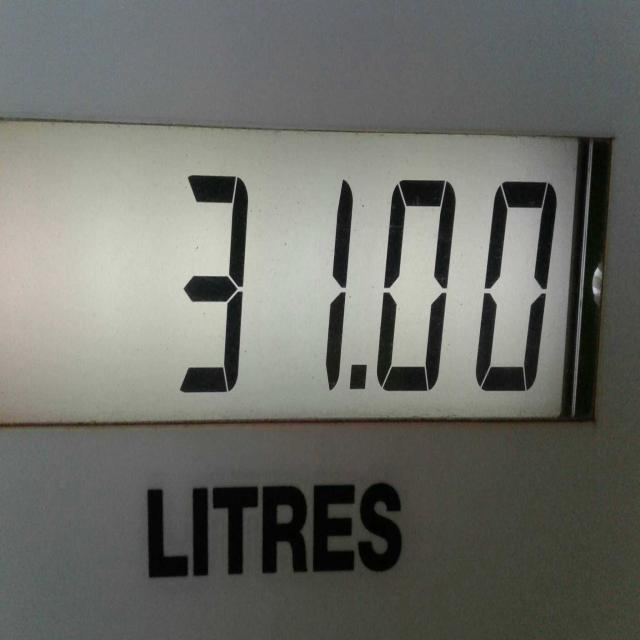.: (349, 347, 378, 411)
0: (474, 178, 558, 411), (378, 178, 458, 418)
1: (324, 175, 362, 401)
3: (180, 162, 254, 404)
